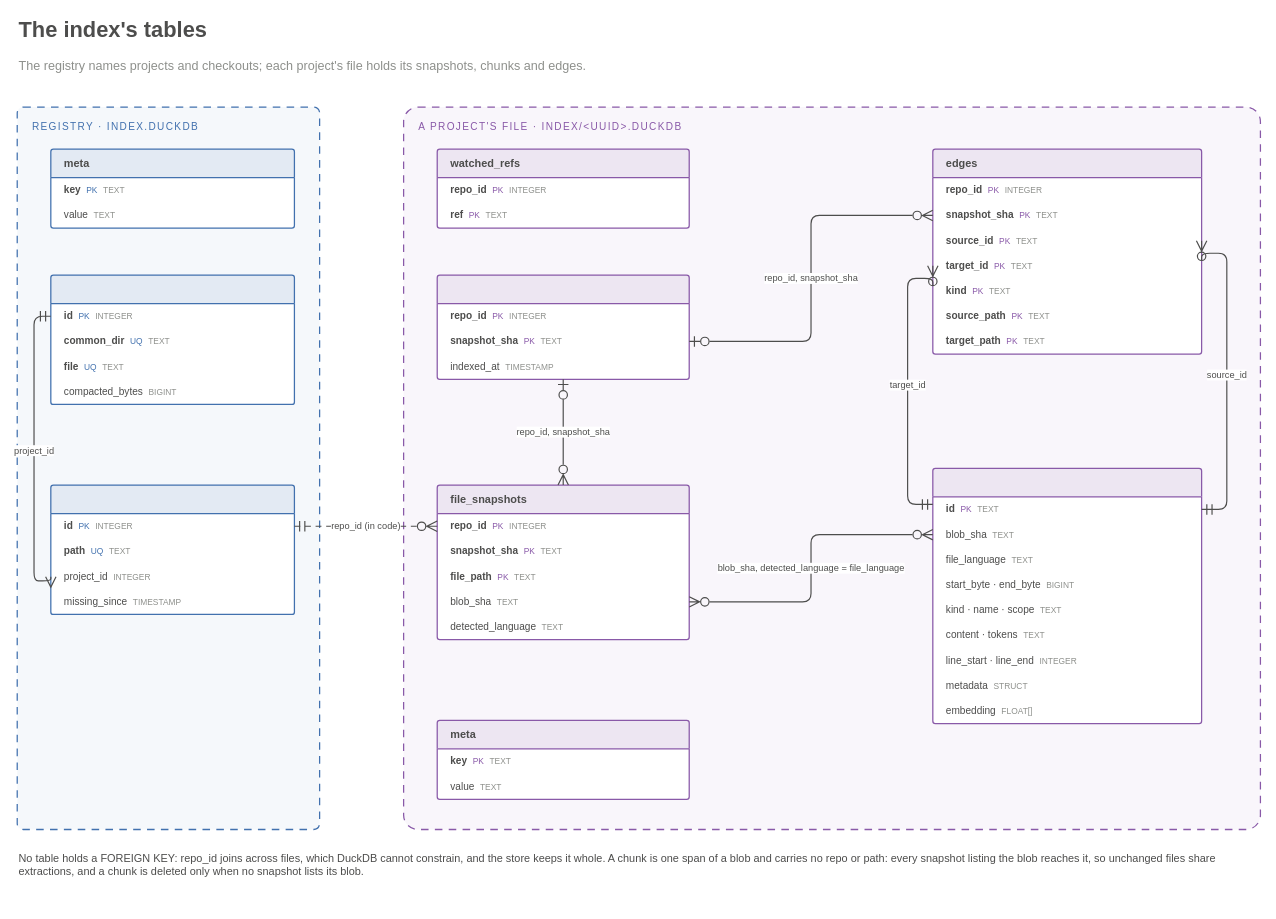
Some shapes in this 1276 by 919 pixel diagram are drawn without their labels. Each missing label, with the box of its shape:
chunks: (932, 467, 1202, 724)
indexed_snapshots: (436, 274, 689, 380)
projects: (50, 274, 295, 405)
repos: (50, 484, 295, 615)
